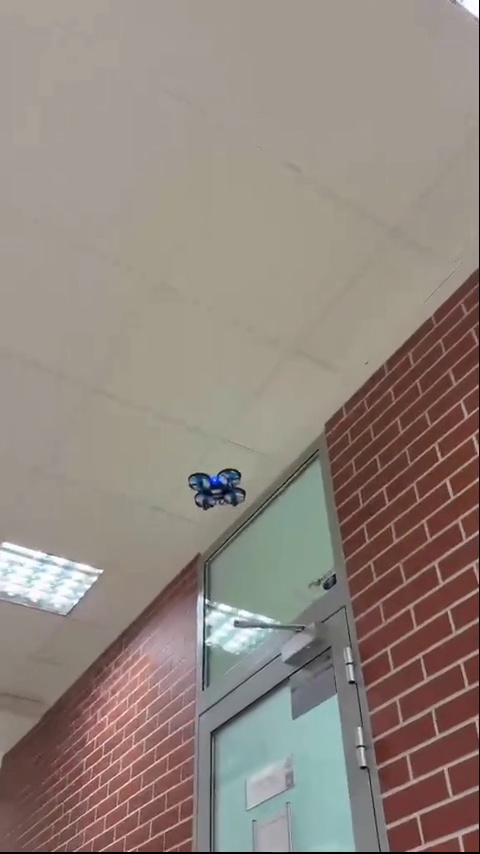drone: (188, 467, 251, 511)
